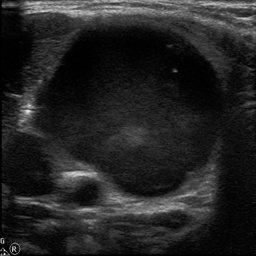mass: (38, 24, 223, 196)
